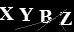B: (38, 9, 52, 24)
X: (1, 6, 14, 21)
Y: (18, 7, 34, 22)
Z: (59, 11, 74, 26)
